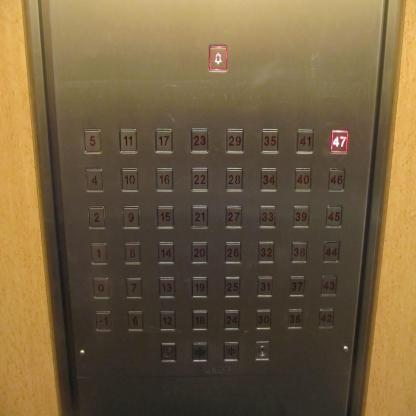-1: (93, 310, 112, 332)
0: (91, 276, 110, 300)
1: (89, 241, 109, 266)
10: (119, 166, 140, 193)
11: (118, 127, 139, 154)
12: (158, 308, 177, 332)
13: (157, 275, 177, 300)
14: (156, 240, 176, 265)
15: (155, 204, 176, 230)
16: (154, 166, 175, 193)
17: (153, 127, 174, 154)
18: (190, 308, 209, 332)
19: (190, 275, 209, 299)
2: (87, 205, 107, 230)
20: (190, 240, 209, 265)
21: (190, 203, 209, 230)
22: (189, 166, 211, 194)
23: (189, 127, 211, 154)
24: (222, 307, 241, 332)
25: (223, 275, 242, 299)
26: (224, 240, 242, 266)
27: (223, 204, 244, 230)
28: (224, 166, 245, 193)
29: (225, 126, 245, 155)
30: (254, 308, 272, 330)
31: (256, 274, 274, 299)
32: (257, 240, 275, 264)
33: (258, 204, 277, 230)
34: (258, 166, 278, 194)
35: (260, 127, 280, 154)
36: (286, 307, 304, 331)
37: (288, 274, 306, 298)
38: (290, 239, 309, 265)
39: (292, 204, 311, 230)
4: (84, 167, 105, 193)
40: (294, 166, 312, 193)
41: (295, 127, 315, 156)
42: (317, 307, 335, 330)
43: (320, 273, 337, 298)
44: (322, 239, 341, 264)
45: (324, 203, 343, 230)
46: (327, 166, 346, 194)
47: (330, 128, 348, 154)
5: (82, 127, 103, 155)
6: (126, 308, 144, 332)
7: (124, 276, 144, 300)
8: (122, 240, 142, 266)
9: (121, 204, 141, 230)
alarm: (208, 44, 229, 73)
blur: (159, 340, 177, 364)
bt_keyhole: (253, 340, 270, 362)
close: (191, 341, 209, 364)
open: (222, 340, 240, 363)
